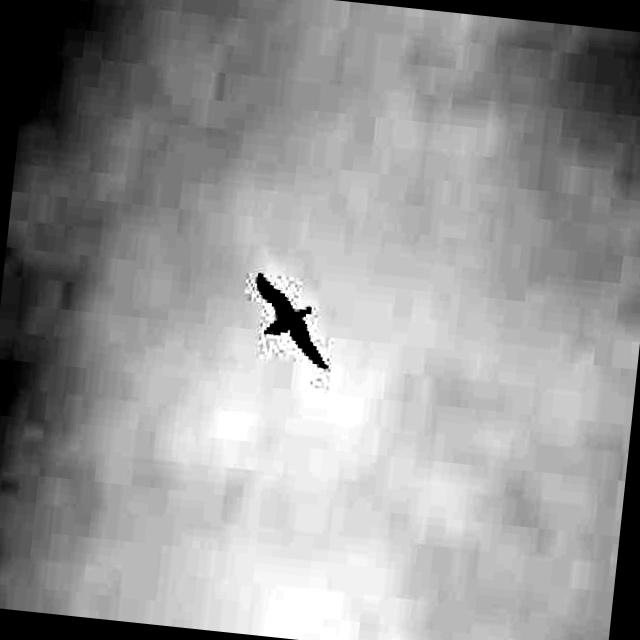bird: (241, 265, 343, 381)
